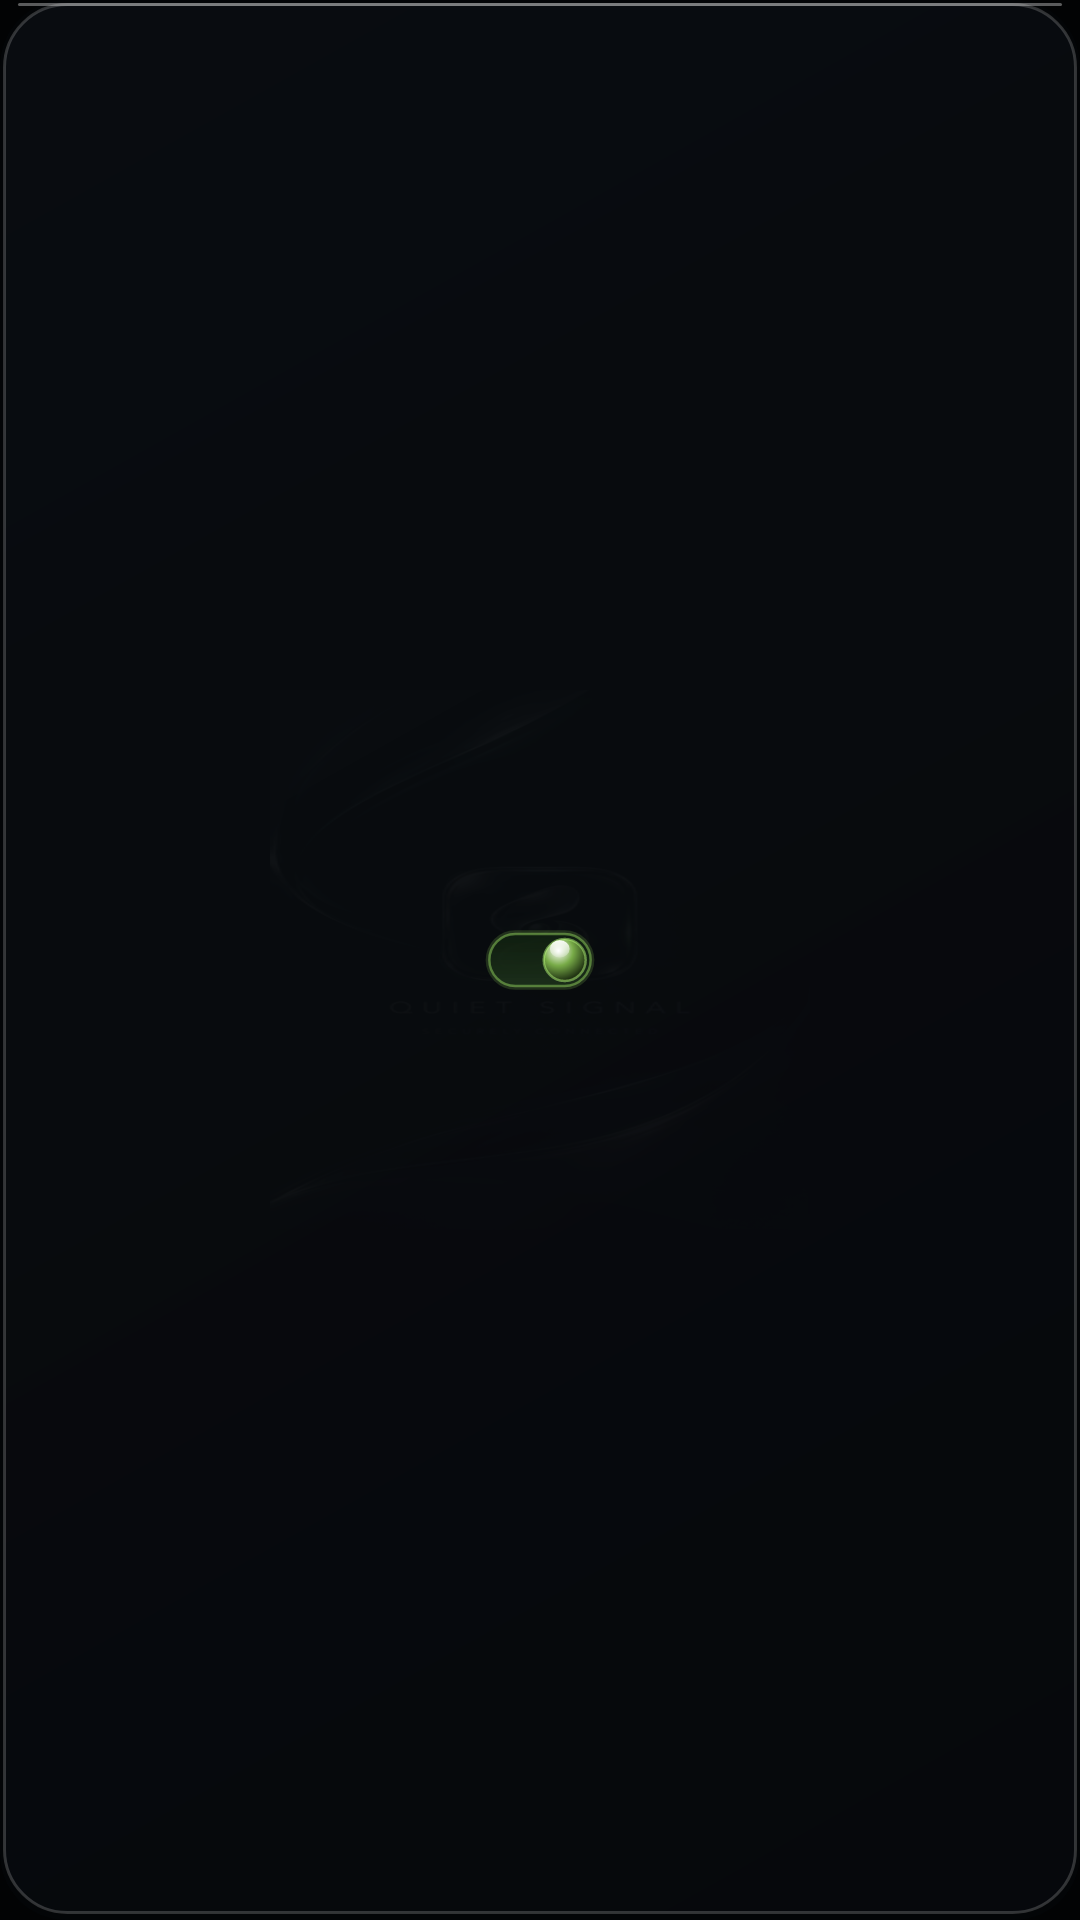

Icons on this 1080×1920 Android screen, each with the point to tap as (x,y):
Connected: (540,960)
